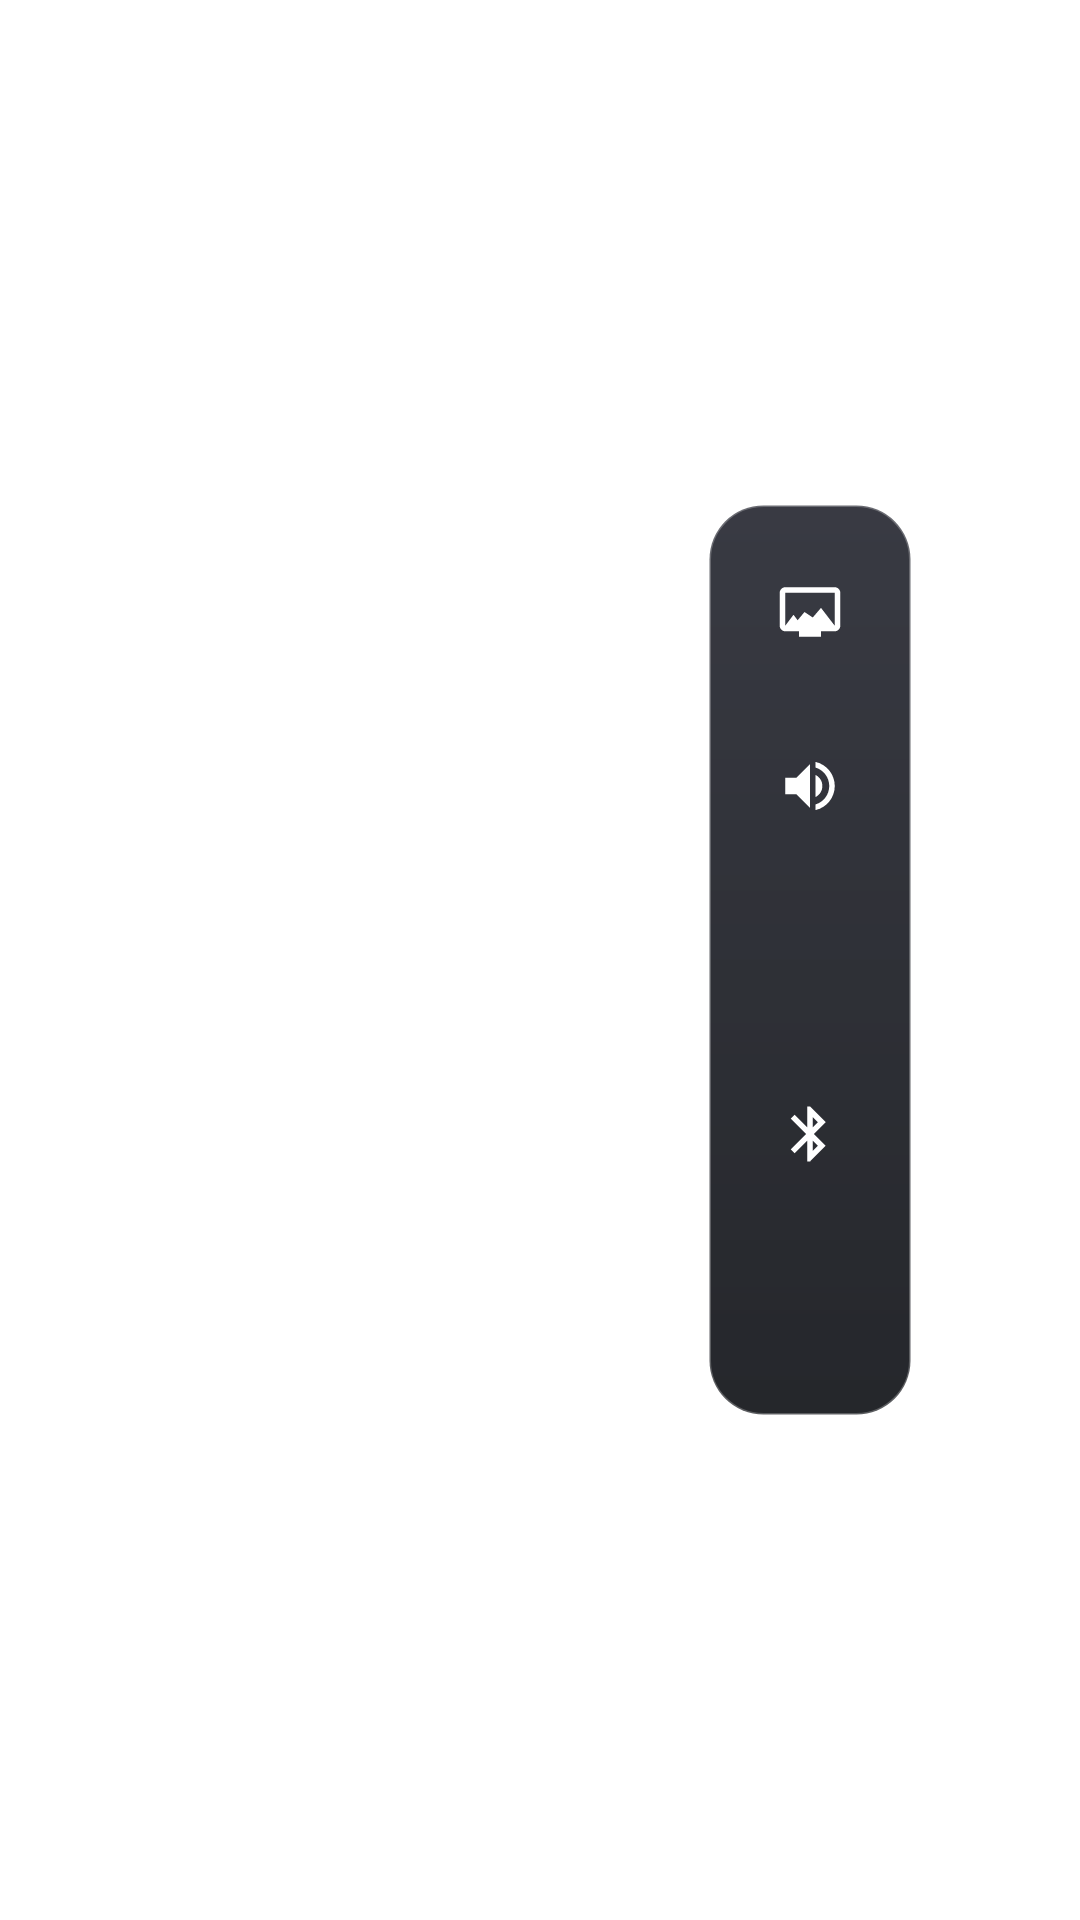

Icon bounding boxes for this 1080x1920 phone screenshot, format (x1, y1, x2, y2):
audio: (785, 762, 835, 810)
